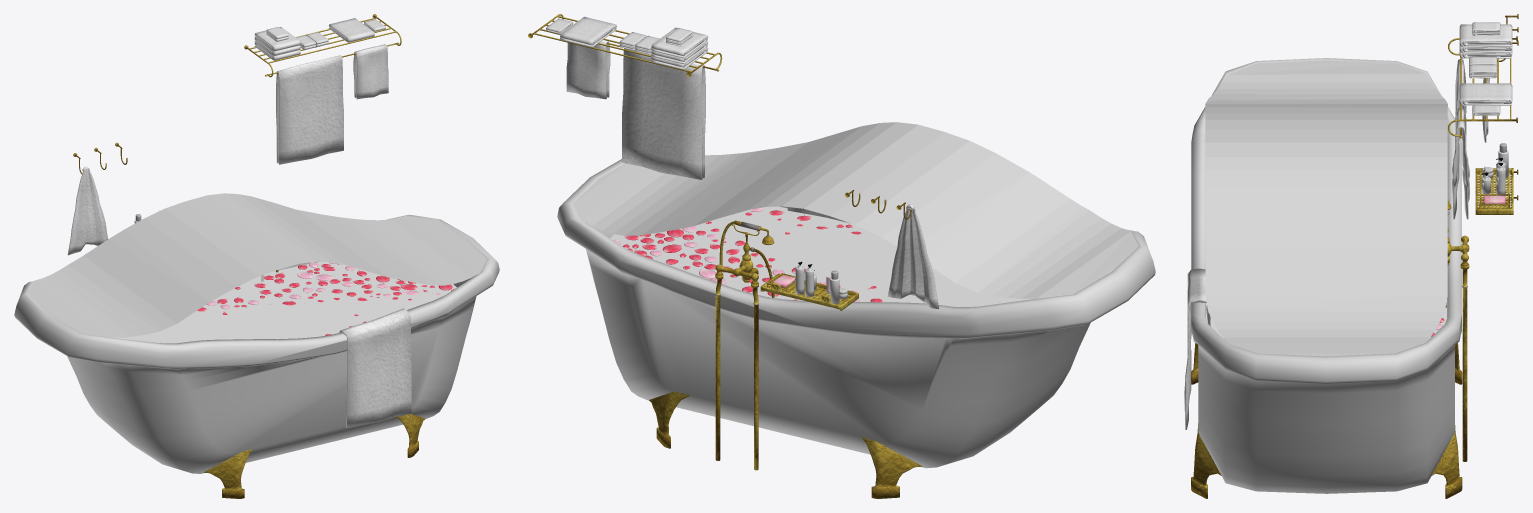
File: Bathtub.fbx
3 views of the same model, side by side, from view 1: azimuth 30°, elevation 25°; view 2: azimuth 150°, elevation 25°; view 3: azimuth 270°, elevation 25° (orthographic). The views are drawn at different scales.
Parts seen in each view (by area): view 1: Bathtub, bubble bath, water's surface, bath towel, bath towel.001, flower, Towel Hanging Hooks_hand towel, hand towel, Towel_set, towel rack, Towel; view 2: Bathtub, bubble bath, water's surface, bath towel.001, shower, Towel Hanging Hooks_hand towel, flower, hand towel, Towel_set, shelf, Towel, towel rack; view 3: bubble bath, Bathtub, Towel_set, shower, bath towel, Towel, shelf, bath towel.001, hand towel, Towel_S_set, towel rack.
Part boxes in pixels (box(x1,y1,x2,y2)): Bathtub: box(14, 214, 499, 498); bubble bath: box(28, 193, 486, 337); water's surface: box(89, 261, 456, 343); bath towel: box(339, 308, 411, 427); bath towel.001: box(276, 55, 343, 164); flower: box(197, 262, 455, 335); Towel Hanging Hooks_hand towel: box(67, 166, 107, 255); hand towel: box(353, 44, 388, 99); Towel_set: box(254, 27, 300, 60); towel rack: box(244, 14, 401, 77); Towel: box(328, 18, 374, 42); Bathtub: box(557, 159, 1155, 498); bubble bath: box(572, 122, 1138, 298); water's surface: box(610, 206, 1070, 306); bath towel.001: box(622, 48, 705, 179); shower: box(715, 220, 774, 470); Towel Hanging Hooks_hand towel: box(887, 204, 939, 309); flower: box(613, 207, 882, 302); hand towel: box(566, 40, 610, 99); Towel_set: box(651, 27, 708, 69); shelf: box(760, 273, 858, 310); Towel: box(560, 16, 616, 47); towel rack: box(528, 14, 722, 76); bubble bath: box(1205, 60, 1447, 356); Bathtub: box(1191, 58, 1462, 498); Towel_set: box(1459, 22, 1512, 58); shower: box(1445, 199, 1469, 461); bath towel: box(1184, 268, 1210, 429); Towel: box(1459, 83, 1512, 105); shelf: box(1475, 168, 1518, 214); bath towel.001: box(1452, 59, 1469, 219); hand towel: box(1452, 108, 1469, 187); Towel_S_set: box(1469, 56, 1496, 78); towel rack: box(1448, 36, 1517, 138).
Size of the model in its own units: 2.55 by 1.91 by 1.29.
